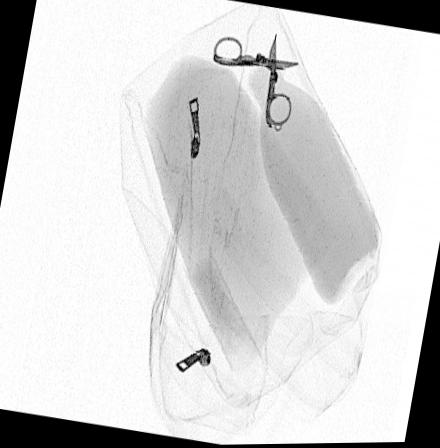Scissors: (211, 28, 303, 135)
